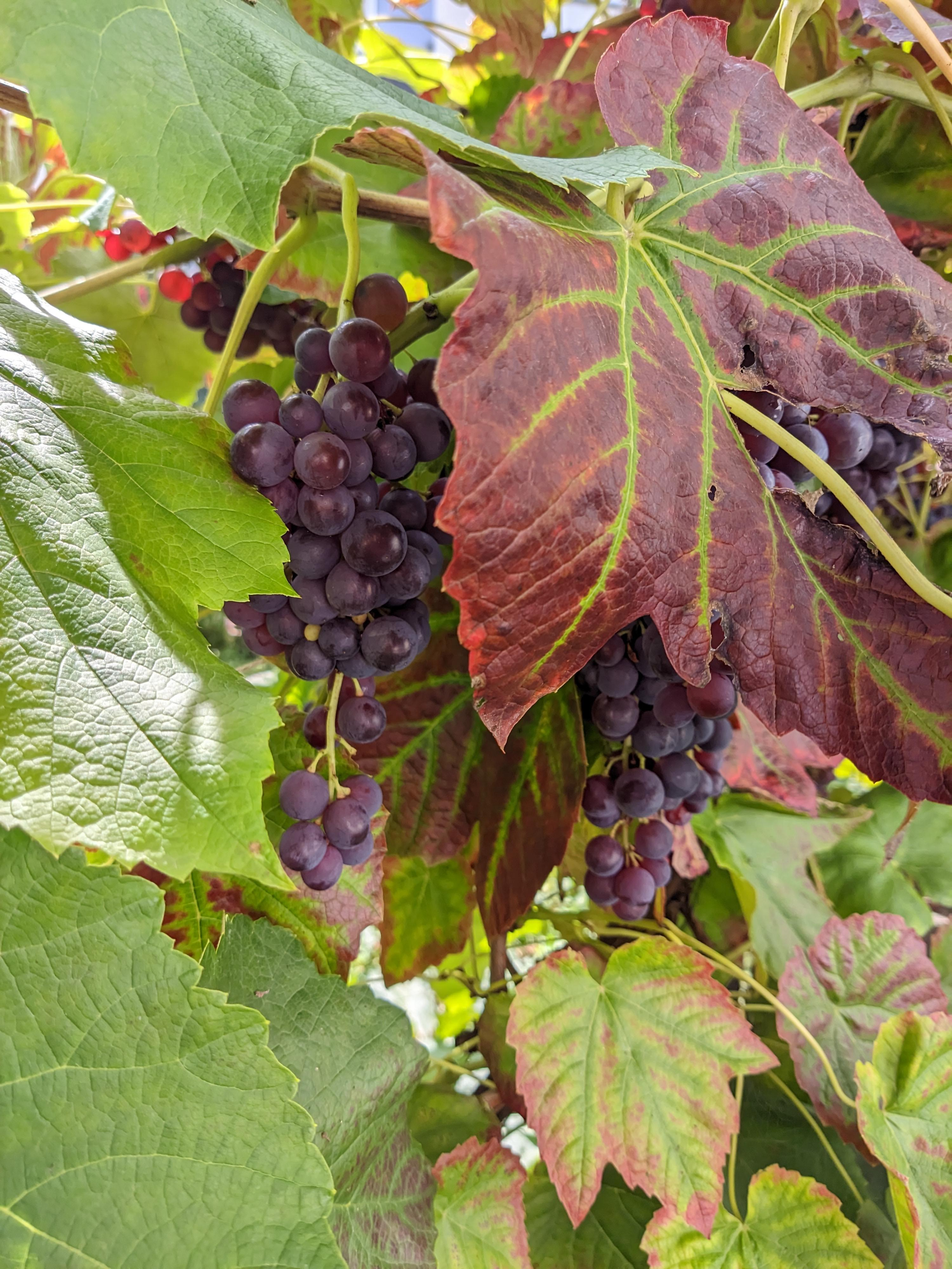Grape Ripe: (220, 274, 451, 891), (576, 617, 745, 923), (96, 218, 307, 358), (738, 387, 916, 520)
